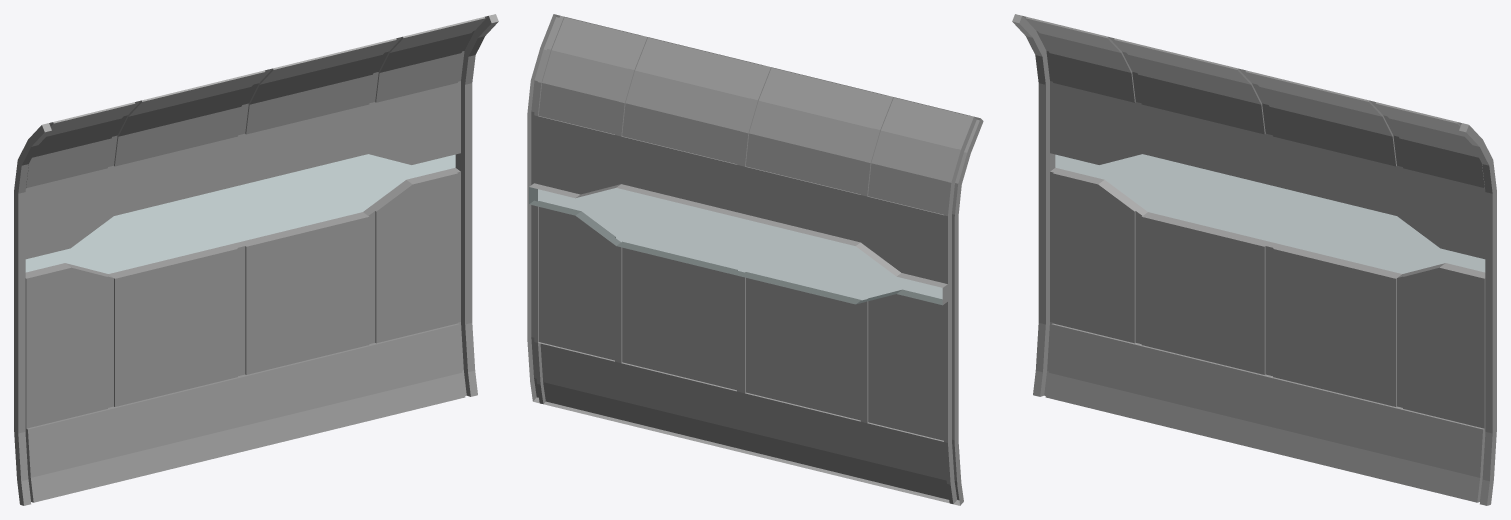
Rendered from Wall_E.fbx.
The picture shows the model from 3 angles, left to right: view 1: azimuth 30°, elevation 25°; view 2: azimuth 150°, elevation 25°; view 3: azimuth 330°, elevation 25°; orthographic projection. The views are drawn at different scales.
Parts seen in each view (by area): view 1: Wall_E_WindowO_O; view 2: Wall_E_WindowO_O; view 3: Wall_E_WindowO_O.
Part boxes in pixels (bbox=[...]): Wall_E_WindowO_O: bbox=[14, 14, 498, 505]; Wall_E_WindowO_O: bbox=[527, 14, 983, 505]; Wall_E_WindowO_O: bbox=[1012, 14, 1496, 505].
Size of the model in its own units: 3 by 0.4136 by 2.5.
